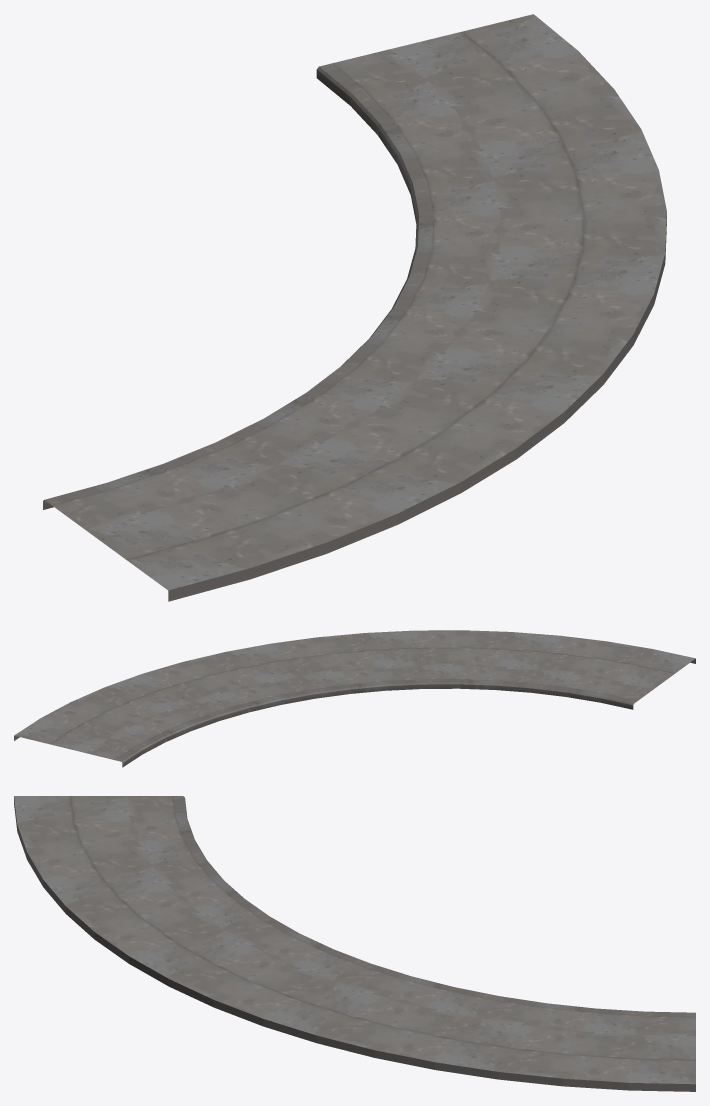
The model's file is Street_Curve_2Lane_Curb.glb.
3 renders of one model, top to bottom at view 1: azimuth 30°, elevation 25°; view 2: azimuth 150°, elevation 25°; view 3: azimuth 270°, elevation 25°, orthographic. The views are drawn at different scales.
Visible parts, largest first — view 1: Street_Curve_2Lane_Curb; view 2: Street_Curve_2Lane_Curb; view 3: Street_Curve_2Lane_Curb.
Boxes of the visible parts, bbox=[...] form: Street_Curve_2Lane_Curb: bbox=[43, 14, 666, 601]; Street_Curve_2Lane_Curb: bbox=[14, 630, 695, 767]; Street_Curve_2Lane_Curb: bbox=[14, 796, 695, 1091].
Size of the model in its own units: 12 by 0.1494 by 12.
Materials: 1 (1 with a texture image).
